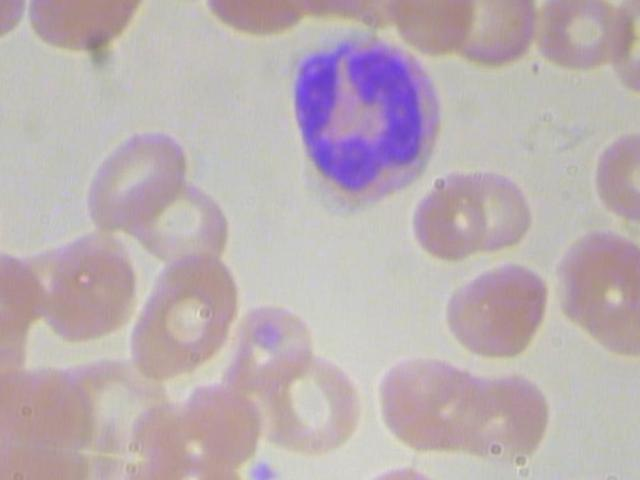RBC: (115, 242, 250, 392), (118, 154, 241, 281), (74, 116, 196, 244), (250, 337, 372, 465), (25, 226, 146, 353), (433, 247, 558, 365), (369, 346, 491, 460), (442, 358, 564, 472), (207, 297, 326, 405), (424, 158, 540, 254), (404, 171, 500, 268), (22, 0, 149, 62), (0, 0, 31, 47)
WBC: (586, 121, 640, 220)
